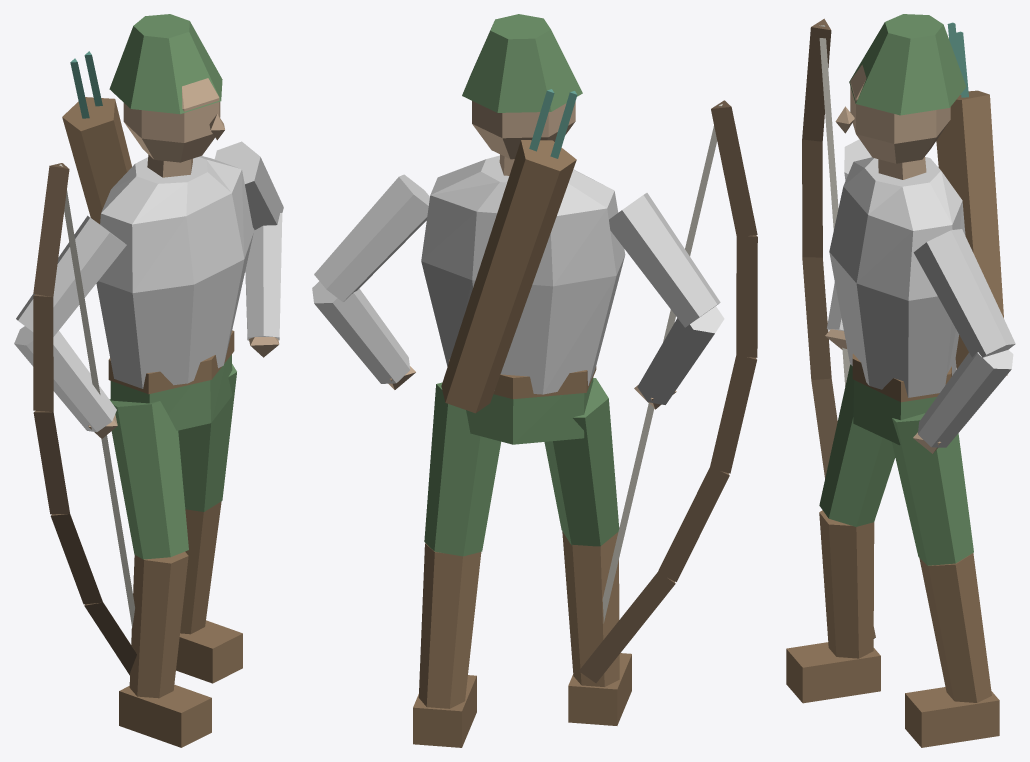
Rendered from longbowman.glb.
3 views of the same model, side by side, from view 1: azimuth 30°, elevation 25°; view 2: azimuth 150°, elevation 25°; view 3: azimuth 270°, elevation 25° (orthographic). The views are drawn at different scales.
Visible parts, largest first — view 1: LOD0; view 2: LOD0; view 3: LOD0.
Boxes of the visible parts, x1,y1,x2,y2 form: LOD0: (14, 14, 283, 747); LOD0: (312, 14, 757, 747); LOD0: (786, 14, 1015, 747).
Size of what is drawn, in the model's own units: 0.5252 by 0.993 by 0.3038.
